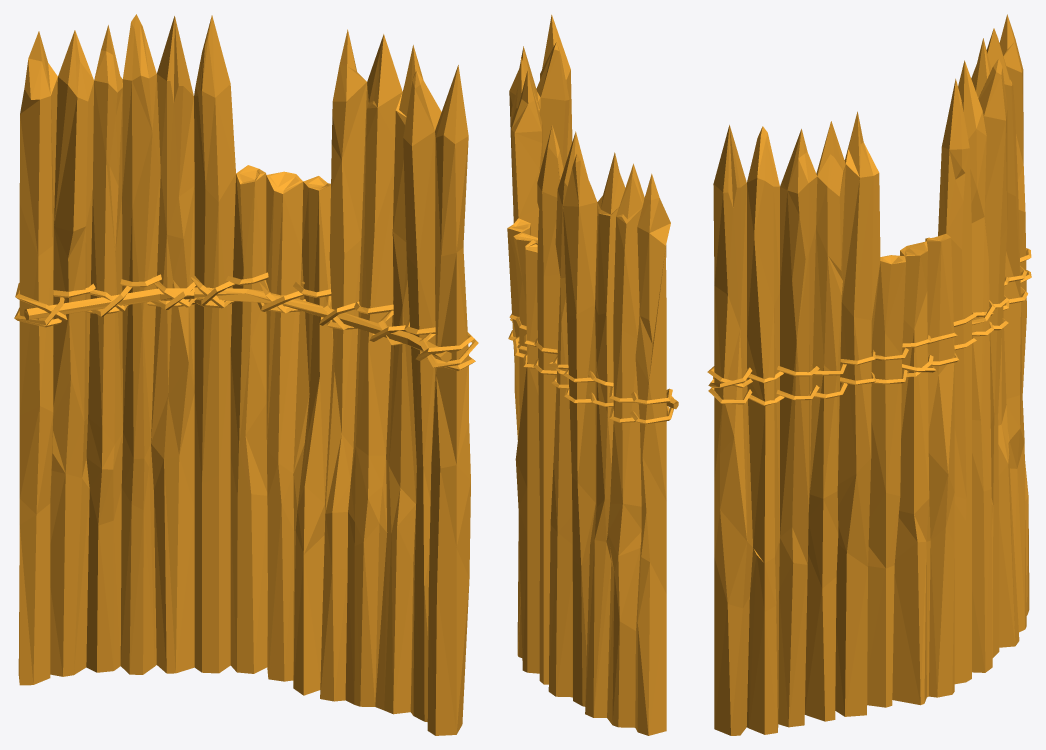
The model's file is SM_Palisade_Corner_Round_3x3_Window_Convex_A.fbx.
3 renders of one model, left to right at view 1: azimuth 30°, elevation 25°; view 2: azimuth 150°, elevation 25°; view 3: azimuth 270°, elevation 25°, orthographic. The views are drawn at different scales.
Visible parts, largest first — view 1: palisade-corner-round-3x3-window-convex-a; view 2: palisade-corner-round-3x3-window-convex-a; view 3: palisade-corner-round-3x3-window-convex-a.
Part boxes in pixels (x1,y1,x2,y2): palisade-corner-round-3x3-window-convex-a: [14, 14, 478, 735]; palisade-corner-round-3x3-window-convex-a: [507, 14, 678, 735]; palisade-corner-round-3x3-window-convex-a: [707, 14, 1031, 735].
Bounding box in the file's own units: 3.33 × 6.85 × 3.31.
